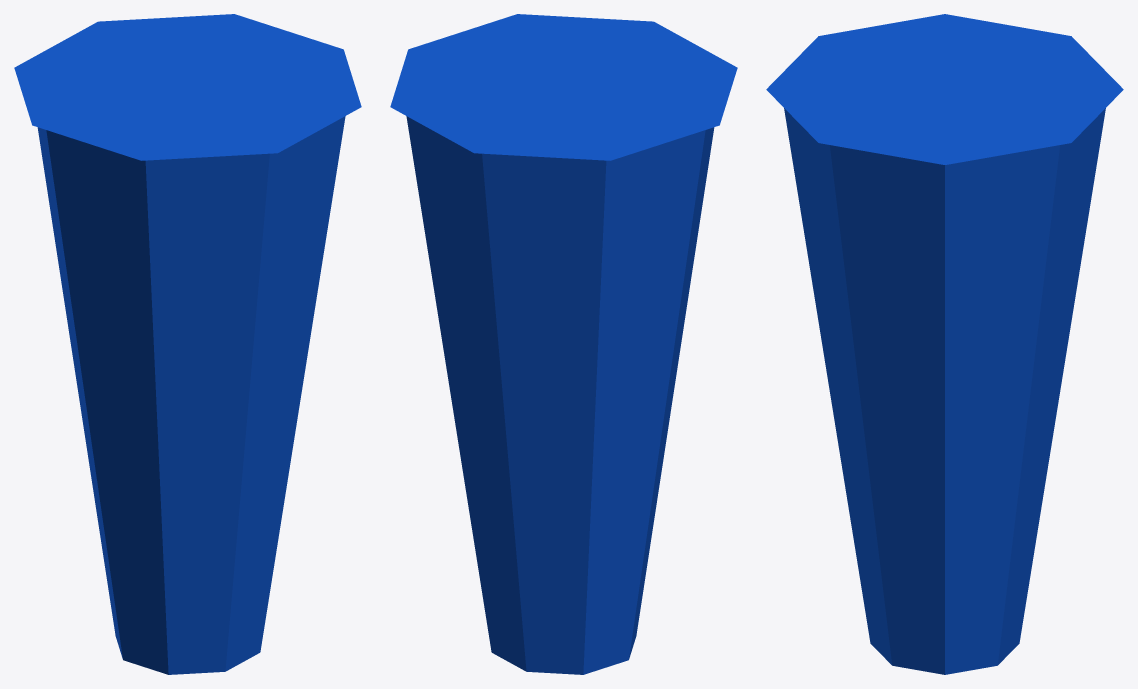
Rendered from tapered_cup.dae.
3 views of the same model, side by side, from view 1: azimuth 30°, elevation 25°; view 2: azimuth 150°, elevation 25°; view 3: azimuth 270°, elevation 25° (orthographic).
Parts seen in each view (by area): view 1: tapered_cup; view 2: tapered_cup; view 3: tapered_cup.
Part boxes in pixels (left/top/right/bottom): tapered_cup: left=14, top=14, right=361, bottom=674; tapered_cup: left=390, top=14, right=737, bottom=674; tapered_cup: left=766, top=14, right=1123, bottom=674.
Size of the model in its own units: 0.12 by 0.12 by 0.205.
